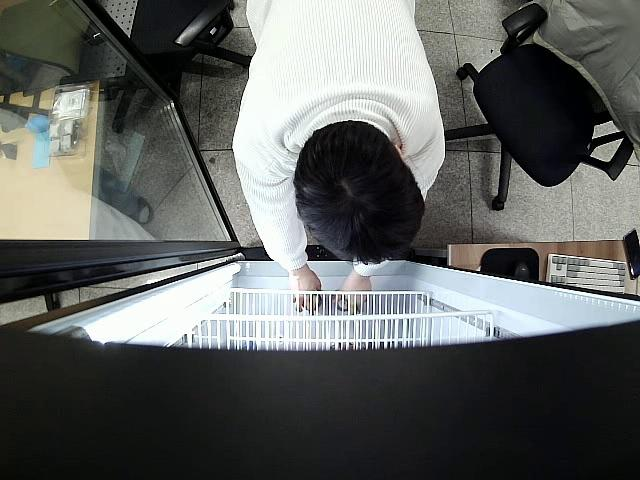00_hand: (332, 277, 371, 313), (289, 272, 322, 314)
